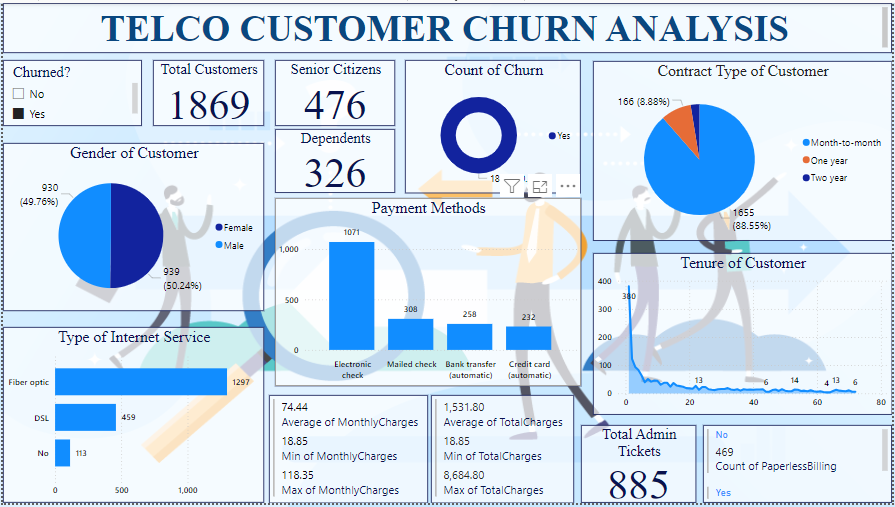

What the dashboard file says about the page in this screenshot:
{"tool":"powerbi","page":{"name":"Page 1","canvas":[1280,720],"ordinal":0},"visuals":[{"type":"pieChart","title":"Gender of Customer","fields":{"Category":["01 Churn-Dataset.gender"],"Y":["CountNonNull(01 Churn-Dataset.customerID)"]},"box":[0,201.6,375.8,241.9],"z":0},{"type":"donutChart","title":"Count of Churn","fields":{"Category":["01 Churn-Dataset.Churn"],"Y":["CountNonNull(01 Churn-Dataset.Churn)"]},"box":[578.9,82.1,253.4,191.5],"z":1000},{"type":"card","title":"Total Customers","fields":{"Values":["CountNonNull(01 Churn-Dataset.Churn)"]},"box":[216.7,81.7,160,95],"z":2000},{"type":"card","title":"Senior Citizens","fields":{"Values":["Sum(01 Churn-Dataset.SeniorCitizen)"]},"box":[391.7,81.7,173.3,95],"z":3000},{"type":"barChart","title":"Type of Internet Service","fields":{"Category":["01 Churn-Dataset.InternetService"],"Y":["CountNonNull(01 Churn-Dataset.InternetService)"]},"box":[0,466.6,375.8,253.4],"z":4000},{"type":"pieChart","title":"Contract Type of Customer","fields":{"Category":["01 Churn-Dataset.Contract"],"Y":["CountNonNull(01 Churn-Dataset.Contract)"]},"box":[849.6,83.5,430.6,259.2],"z":5000},{"type":"multiRowCard","fields":{"Values":["01 Churn-Dataset.PaperlessBilling","CountNonNull(01 Churn-Dataset.PaperlessBilling)"]},"box":[1008,607.7,272.2,112.3],"z":6000},{"type":"columnChart","title":"Payment Methods","fields":{"Category":["01 Churn-Dataset.PaymentMethod"],"Y":["CountNonNull(01 Churn-Dataset.PaymentMethod)"]},"box":[391.7,280.8,440.6,270.7],"z":7000},{"type":"slicer","fields":{"Values":["01 Churn-Dataset.Churn"]},"box":[0,81.7,200,95],"z":8000},{"type":"areaChart","title":"Tenure of Customer","fields":{"Category":["01 Churn-Dataset.tenure"],"Y":["CountNonNull(01 Churn-Dataset.tenure)"]},"box":[849.6,360,430.6,233.3],"z":9000},{"type":"multiRowCard","fields":{"Values":["Avg(01 Churn-Dataset.MonthlyCharges)","Min(01 Churn-Dataset.MonthlyCharges)","Max(01 Churn-Dataset.MonthlyCharges)1"]},"box":[383,564.5,229,155.5],"z":10000},{"type":"multiRowCard","fields":{"Values":["Avg(01 Churn-Dataset.TotalCharges)","Min(01 Churn-Dataset.TotalCharges)","Max(01 Churn-Dataset.TotalCharges)"]},"box":[616.3,564.5,205.9,155.5],"z":11000},{"type":"textbox","box":[0,0,1280.2,72],"z":12000},{"type":"card","title":"Dependents","fields":{"Values":["CountNonNull(01 Churn-Dataset.Dependents)"]},"box":[391.7,181.4,172.8,92.2],"z":13000},{"type":"card","title":"Total Admin Tickets","fields":{"Values":["Sum(01 Churn-Dataset.numAdminTickets)"]},"box":[832.3,607.7,165.6,112.3],"z":14000}]}

Visuals, with their boxes in screenshot pixels (x1, y1, x2, y2), scaled from the page's 1280x720 canvas onto the 895x507 screenshot:
"Gender of Customer" pieChart: bbox=[0, 142, 263, 312]
"Count of Churn" donutChart: bbox=[405, 58, 582, 193]
"Total Customers" card: bbox=[152, 58, 263, 124]
"Senior Citizens" card: bbox=[274, 58, 395, 124]
"Type of Internet Service" barChart: bbox=[0, 329, 263, 506]
"Contract Type of Customer" pieChart: bbox=[594, 59, 894, 241]
multiRowCard - 01 Churn-Dataset.PaperlessBilling x CountNonNull(01 Churn-Dataset.PaperlessBilling): bbox=[705, 428, 894, 506]
"Payment Methods" columnChart: bbox=[274, 198, 582, 388]
slicer - 01 Churn-Dataset.Churn: bbox=[0, 58, 140, 124]
"Tenure of Customer" areaChart: bbox=[594, 254, 894, 418]
multiRowCard - Avg(01 Churn-Dataset.MonthlyCharges) x Min(01 Churn-Dataset.MonthlyCharges): bbox=[268, 398, 428, 506]
multiRowCard - Avg(01 Churn-Dataset.TotalCharges) x Min(01 Churn-Dataset.TotalCharges): bbox=[431, 398, 575, 506]
textbox: bbox=[0, 0, 894, 51]
"Dependents" card: bbox=[274, 128, 395, 193]
"Total Admin Tickets" card: bbox=[582, 428, 698, 506]
